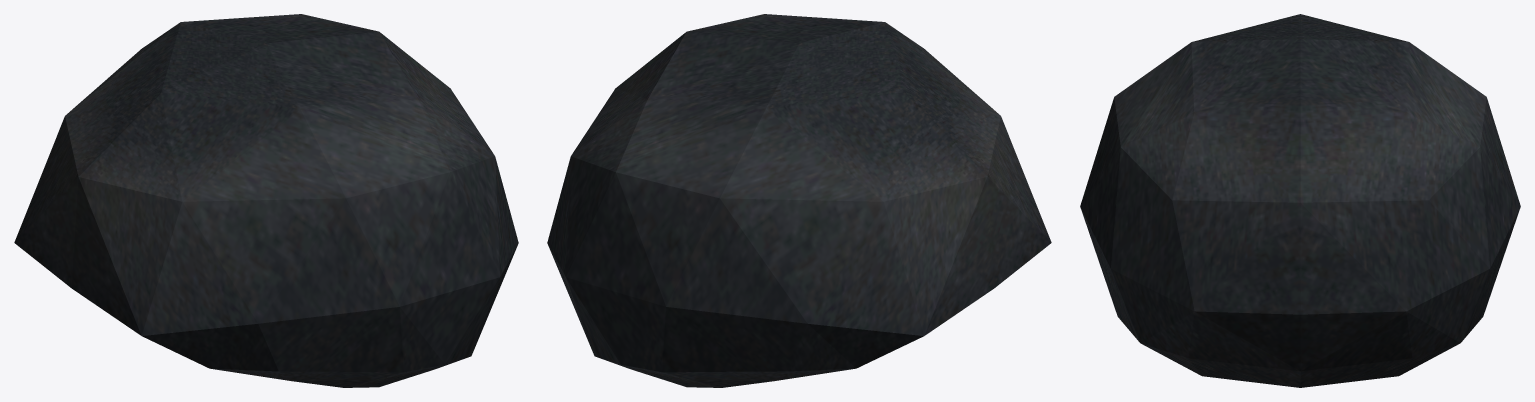
The model's file is Wolf_afro.obj.
3 views of the same model, side by side, from view 1: azimuth 30°, elevation 25°; view 2: azimuth 150°, elevation 25°; view 3: azimuth 270°, elevation 25° (orthographic). The views are drawn at different scales.
Visible parts, largest first — view 1: Wolf_afro_tri; view 2: Wolf_afro_tri; view 3: Wolf_afro_tri.
Part boxes in pixels (bbox=[...]): Wolf_afro_tri: bbox=[14, 14, 518, 387]; Wolf_afro_tri: bbox=[547, 14, 1051, 387]; Wolf_afro_tri: bbox=[1080, 14, 1520, 387].
Bounding box in the file's own units: 0.4857 × 0.3662 × 0.51.
1 material, 1 textured.
